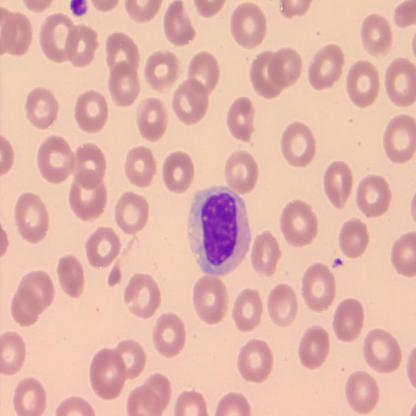Metamyelocyte: (183, 183, 253, 278)
